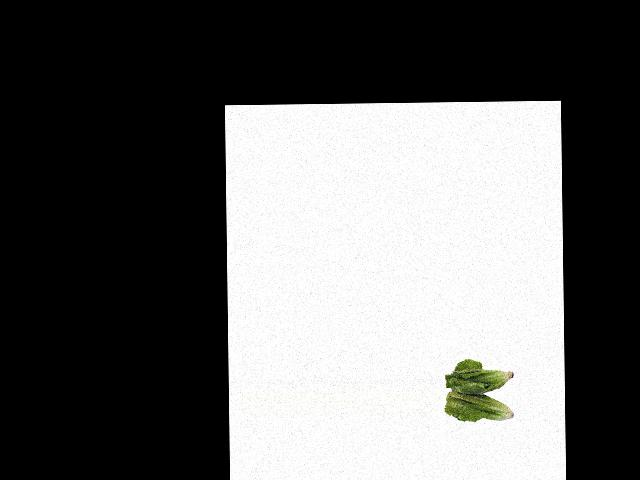lettuce: (444, 365, 515, 425)
